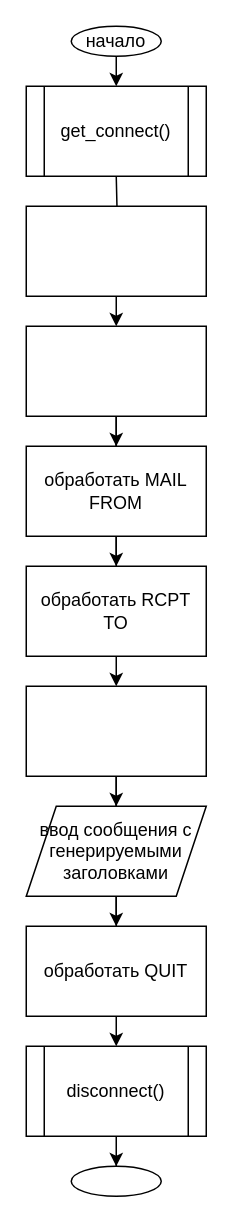
The diagram is 233 pixels wide and 1223 high, and some of its shapes have lost their labels. Each missing label, with the centre of its shape:
"конец" goes at (x=115, y=1180).
"обработать DATA" goes at (x=115, y=730).
"обработать HELO" goes at (x=115, y=370).
"получить приветствие сервера" goes at (x=115, y=250).
